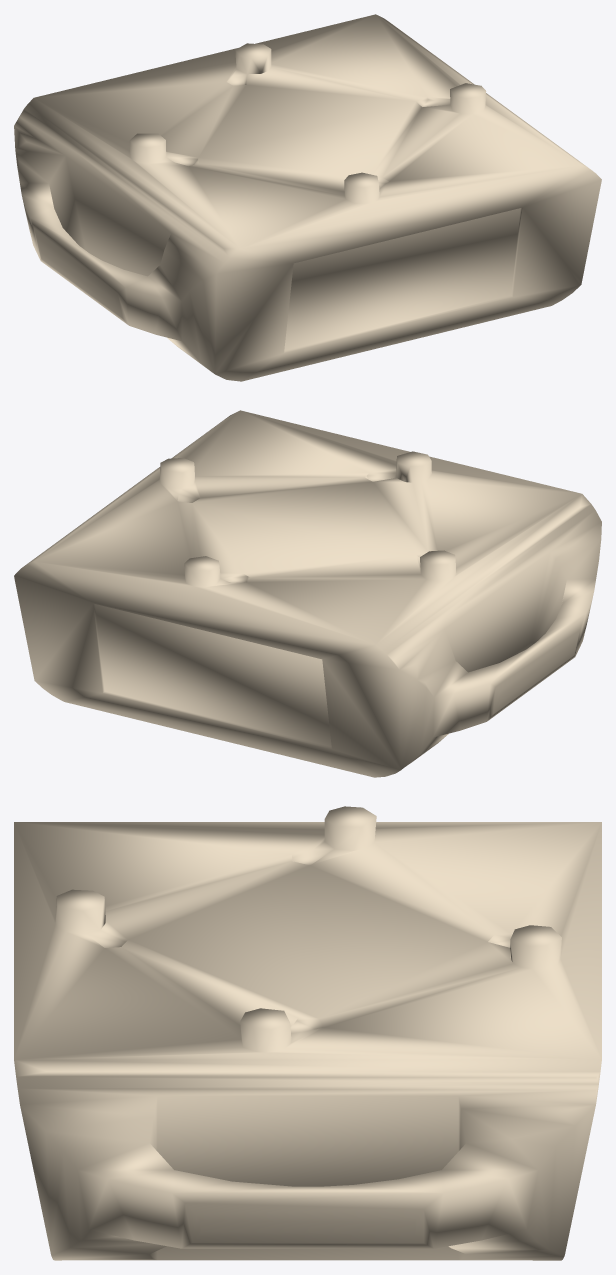
Rendered from robe-lighting__robin-300-ledwash.glb.
The picture shows the model from 3 angles, top to bottom: view 1: azimuth 30°, elevation 25°; view 2: azimuth 150°, elevation 25°; view 3: azimuth 270°, elevation 25°; orthographic projection. The views are drawn at different scales.
Parts seen in each view (by area): view 1: mesh; view 2: mesh; view 3: mesh.
Part boxes in pixels (x1,y1,x2,y2): mesh: [14, 14, 601, 381]; mesh: [14, 410, 601, 777]; mesh: [14, 806, 601, 1260].
Size of the model in its own units: 0.2703 by 0.0963 by 0.2092.
